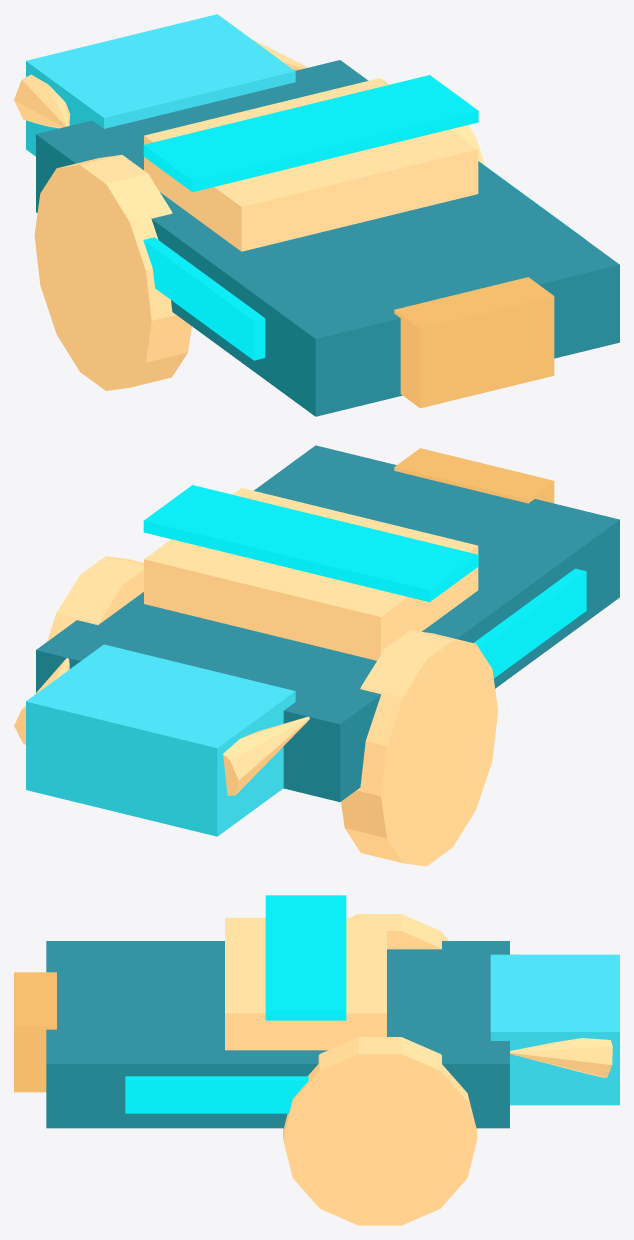
The model's file is inferno.glb.
3 renders of one model, top to bottom at view 1: azimuth 30°, elevation 25°; view 2: azimuth 150°, elevation 25°; view 3: azimuth 270°, elevation 25°, orthographic. The views are drawn at different scales.
Visible parts, largest first — view 1: chassis, wheel_l, canopy_wheel, body_nose, glow_strip_roof, emitter, glow_strip_side, wheel_spike; view 2: chassis, body_nose, wheel_l, canopy_wheel, glow_strip_roof, glow_strip_side, emitter, wheel_r, wheel_spike, wheel_spike.001; view 3: chassis, wheel_r, body_nose, canopy_wheel, glow_strip_roof, glow_strip_side.001, emitter, wheel_spike.001, wheel_l.
Part boxes in pixels (x1=…): chassis: x1=36, y1=60, x2=619, y2=416; wheel_l: x1=34, y1=155, x2=191, y2=390; canopy_wheel: x1=144, y1=78, x2=478, y2=251; body_nose: x1=26, y1=14, x2=295, y2=156; glow_strip_roof: x1=143, y1=75, x2=478, y2=192; emitter: x1=394, y1=277, x2=554, y2=408; glow_strip_side: x1=143, y1=237, x2=265, y2=360; wheel_spike: x1=14, y1=74, x2=70, y2=128; chassis: x1=36, y1=445, x2=619, y2=801; body_nose: x1=26, y1=644, x2=295, y2=836; wheel_l: x1=341, y1=630, x2=498, y2=866; canopy_wheel: x1=144, y1=488, x2=478, y2=660; glow_strip_roof: x1=143, y1=485, x2=478, y2=602; glow_strip_side: x1=473, y1=568, x2=586, y2=678; emitter: x1=394, y1=448, x2=554, y2=503; wheel_r: x1=47, y1=556, x2=143, y2=641; wheel_spike: x1=223, y1=716, x2=309, y2=795; wheel_spike.001: x1=14, y1=658, x2=69, y2=744; chassis: x1=46, y1=941, x2=509, y2=1128; wheel_r: x1=283, y1=1037, x2=477, y2=1225; body_nose: x1=490, y1=954, x2=619, y2=1105; canopy_wheel: x1=225, y1=917, x2=386, y2=1050; glow_strip_roof: x1=265, y1=895, x2=346, y2=1020; glow_strip_side.001: x1=125, y1=1076, x2=308, y2=1113; emitter: x1=14, y1=972, x2=56, y2=1092; wheel_spike.001: x1=510, y1=1038, x2=612, y2=1077; wheel_l: x1=351, y1=914, x2=448, y2=949.
Bounding box in the file's own units: 0.615 × 0.4143 × 1.12.
